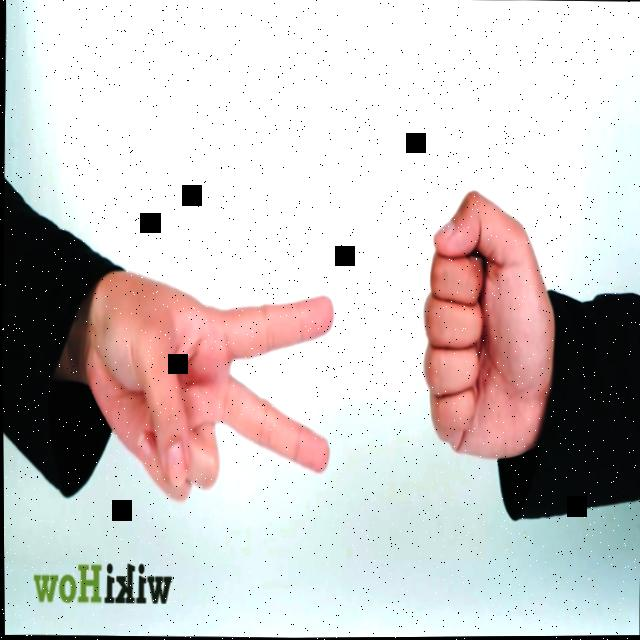Rock: (416, 187, 559, 466)
Scissors: (81, 268, 337, 504)
